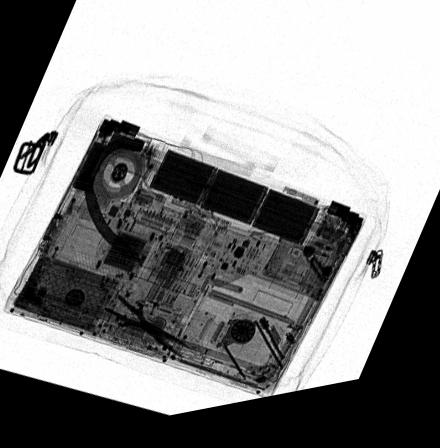Scissors: (88, 275, 198, 368)
